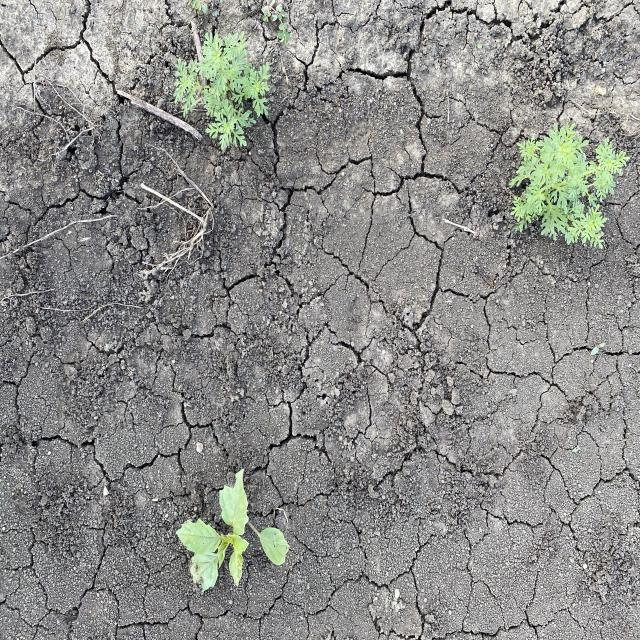CutleafGroundcherry: (172, 466, 292, 598)
Ragweed: (506, 124, 632, 252), (172, 30, 274, 154)
SpottedSpurge: (258, 0, 292, 43)
